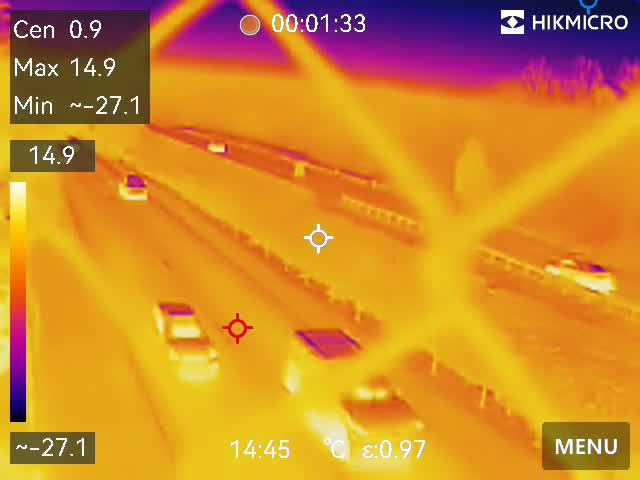largeCar: (277, 320, 429, 466)
smallCar: (149, 295, 216, 367)
vehicle: (546, 246, 617, 295), (116, 172, 150, 201), (205, 139, 232, 159)
